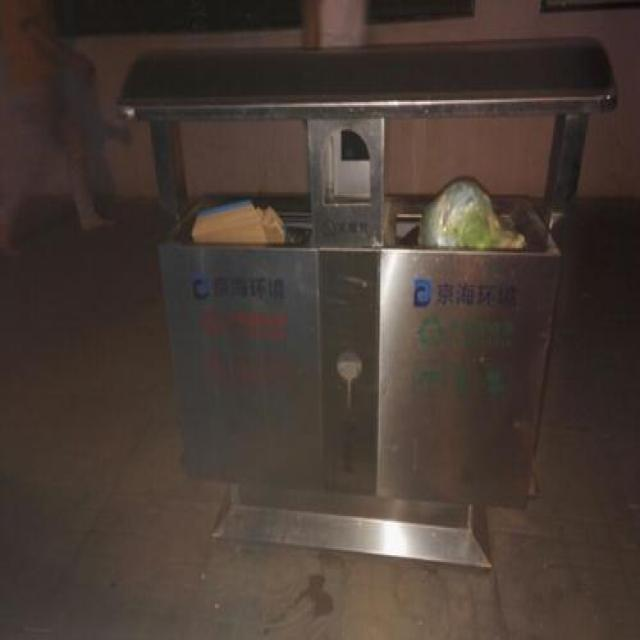overflow: (117, 38, 616, 570)
